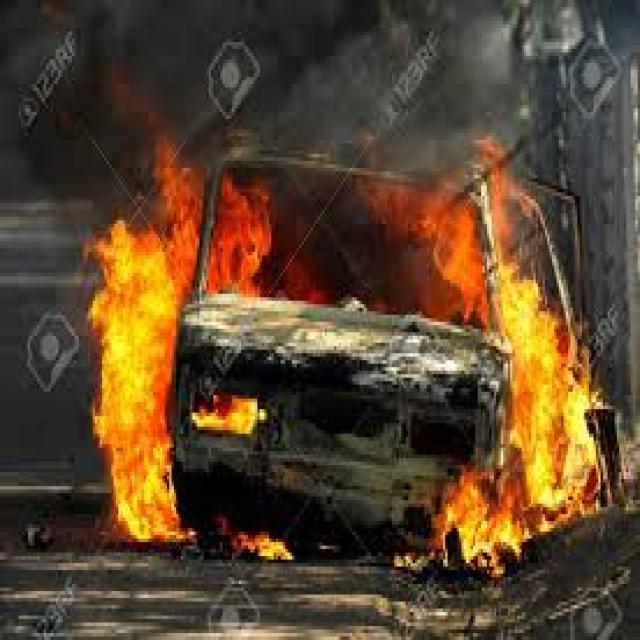Fire: (82, 128, 616, 580)
